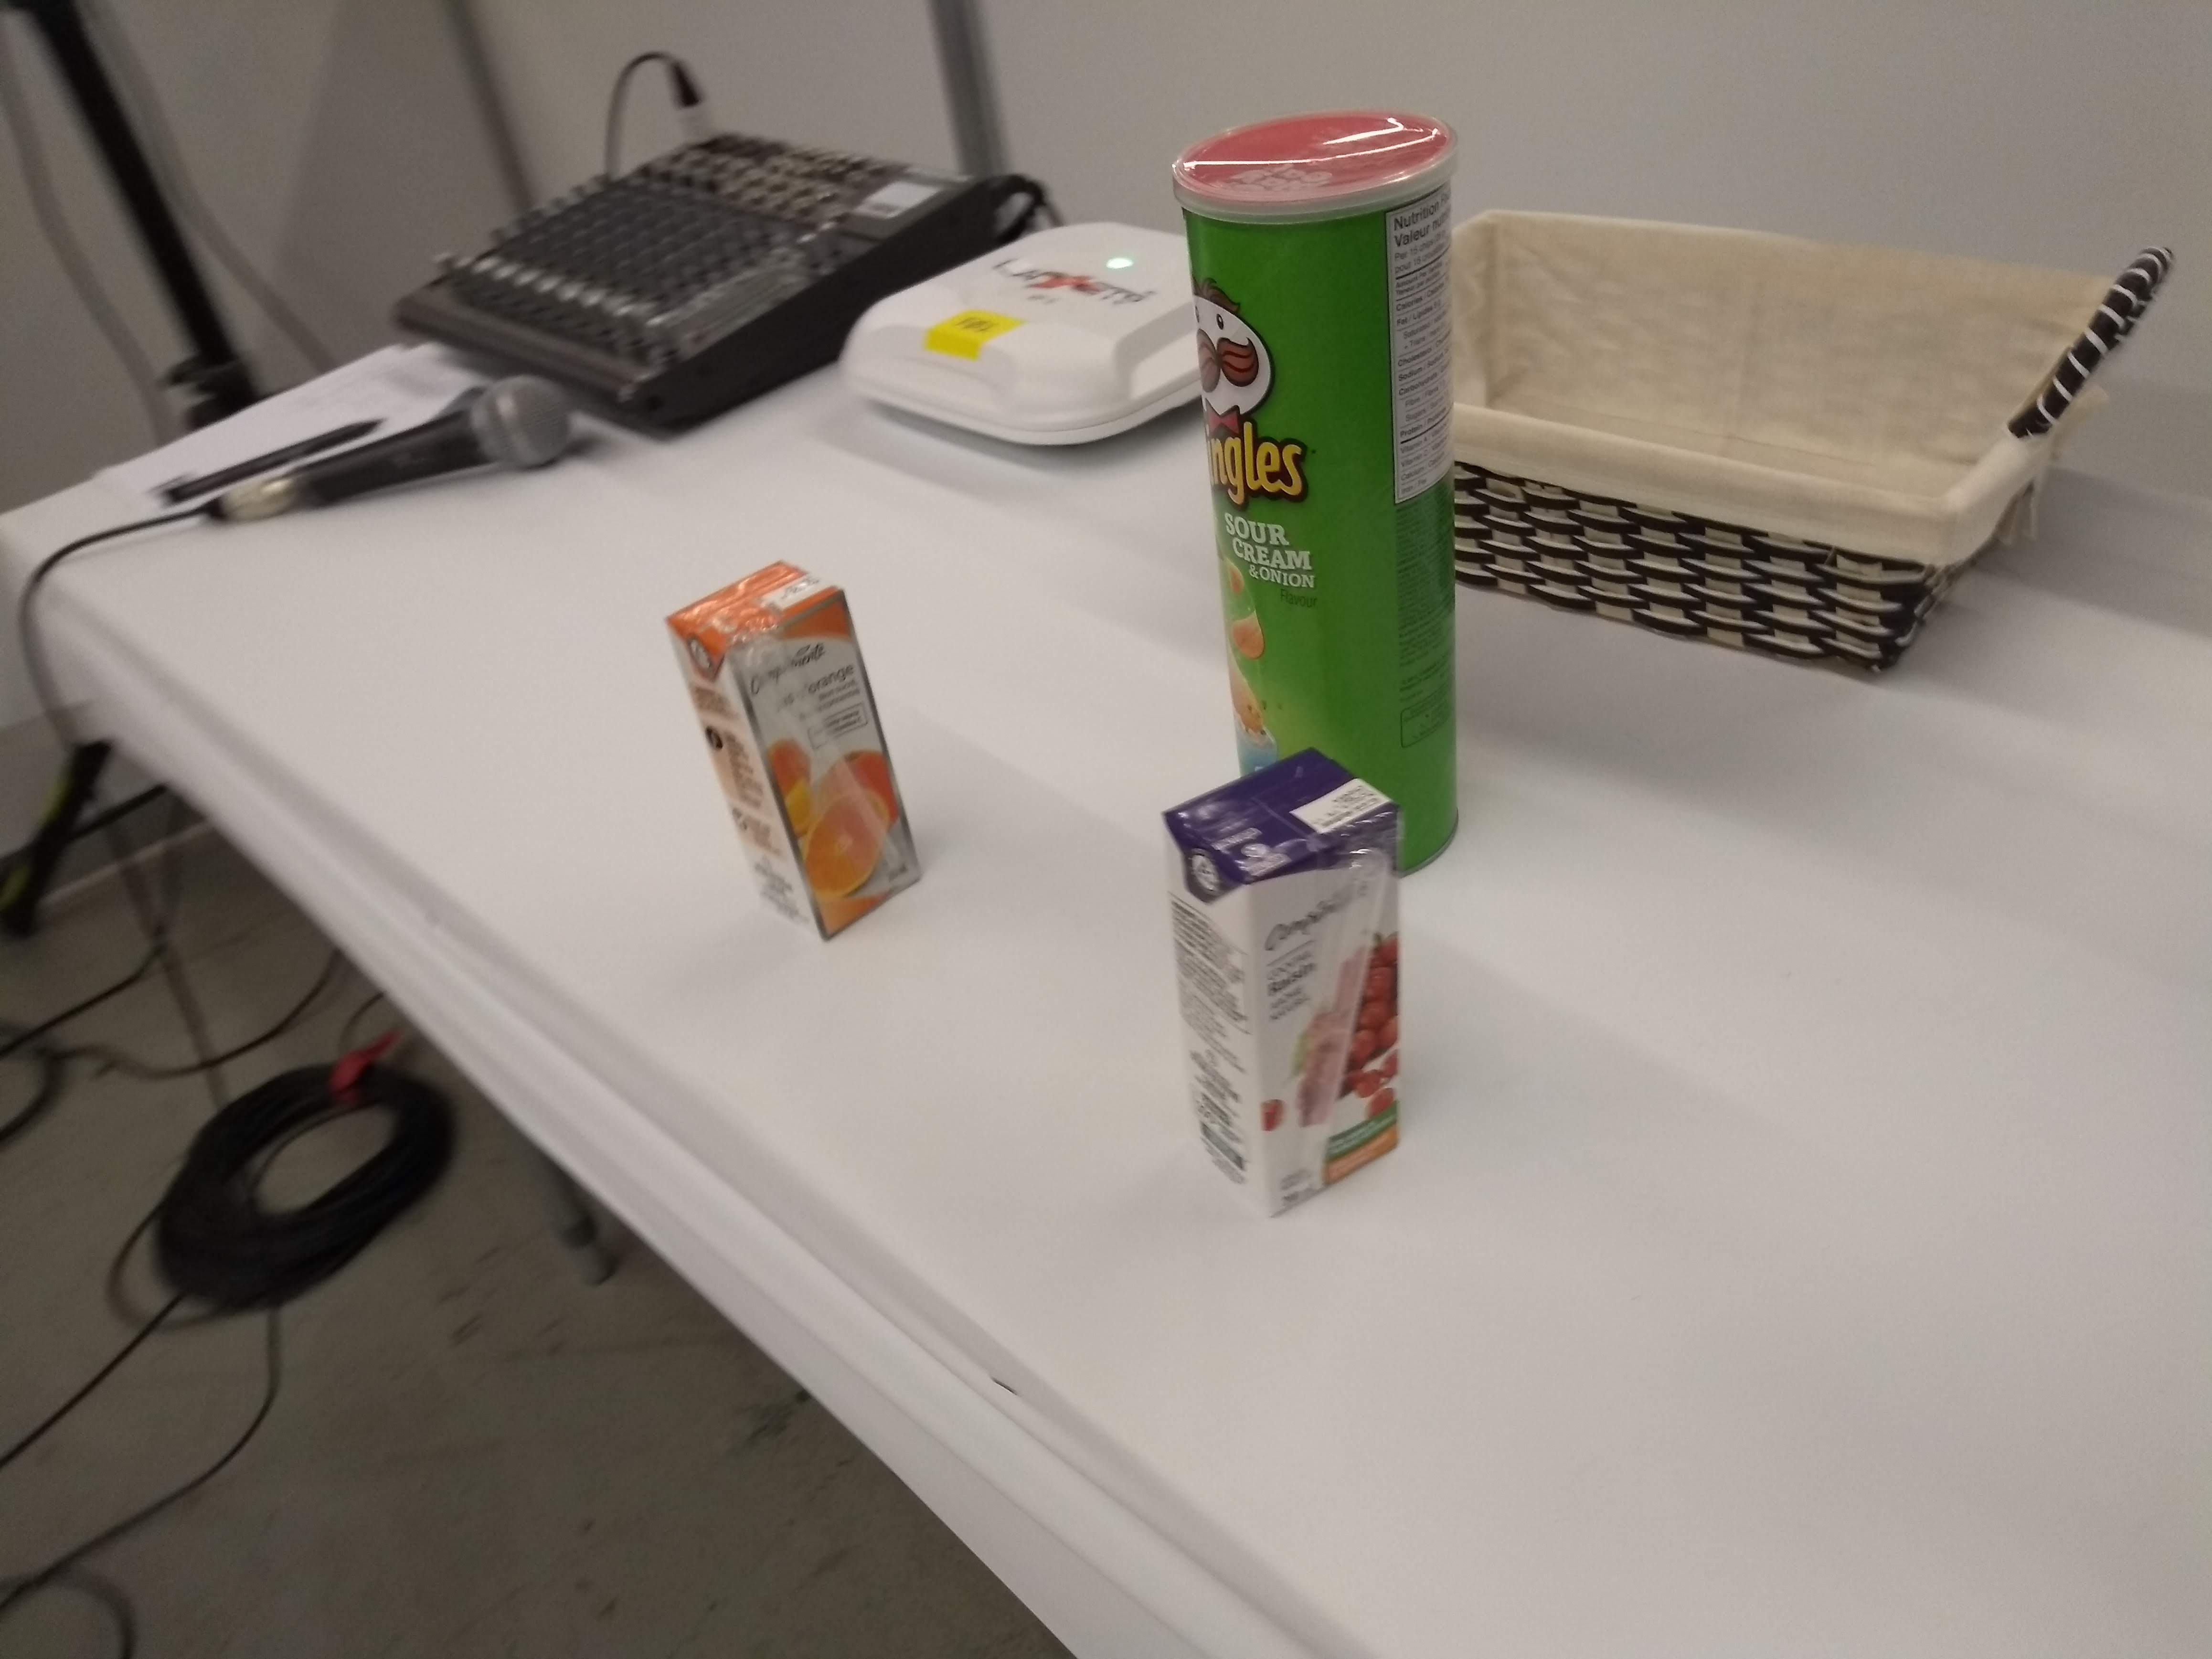grape_juice: (1148, 735, 1423, 1230)
orange_juice: (658, 549, 941, 955)
pringles: (1160, 101, 1474, 884)
